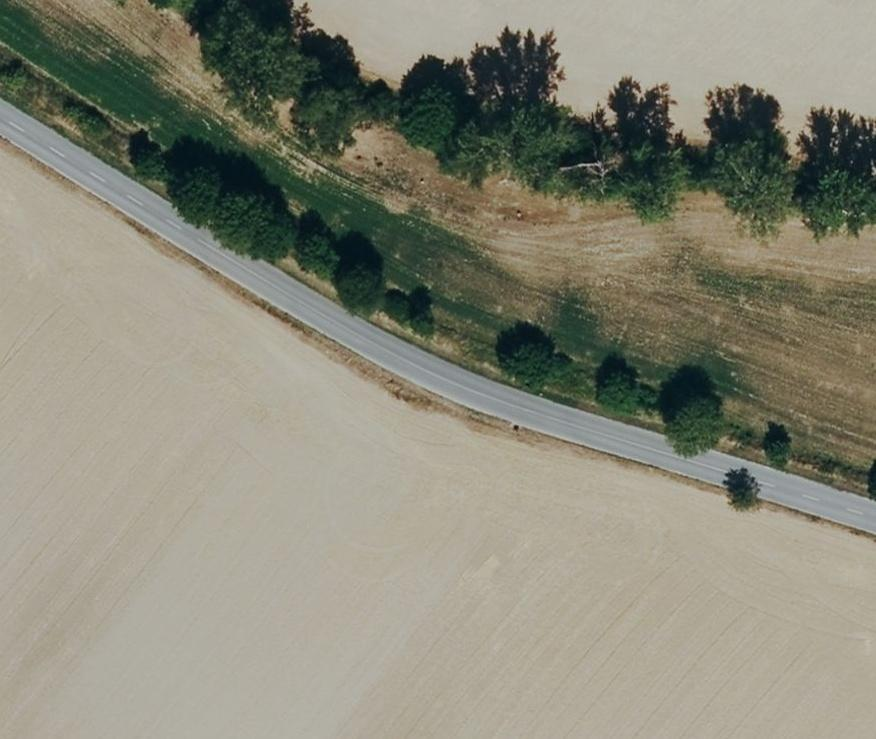field: (0, 148, 876, 736), (0, 1, 876, 492), (308, 0, 876, 139)
forest: (183, 0, 876, 239), (132, 132, 385, 315)
